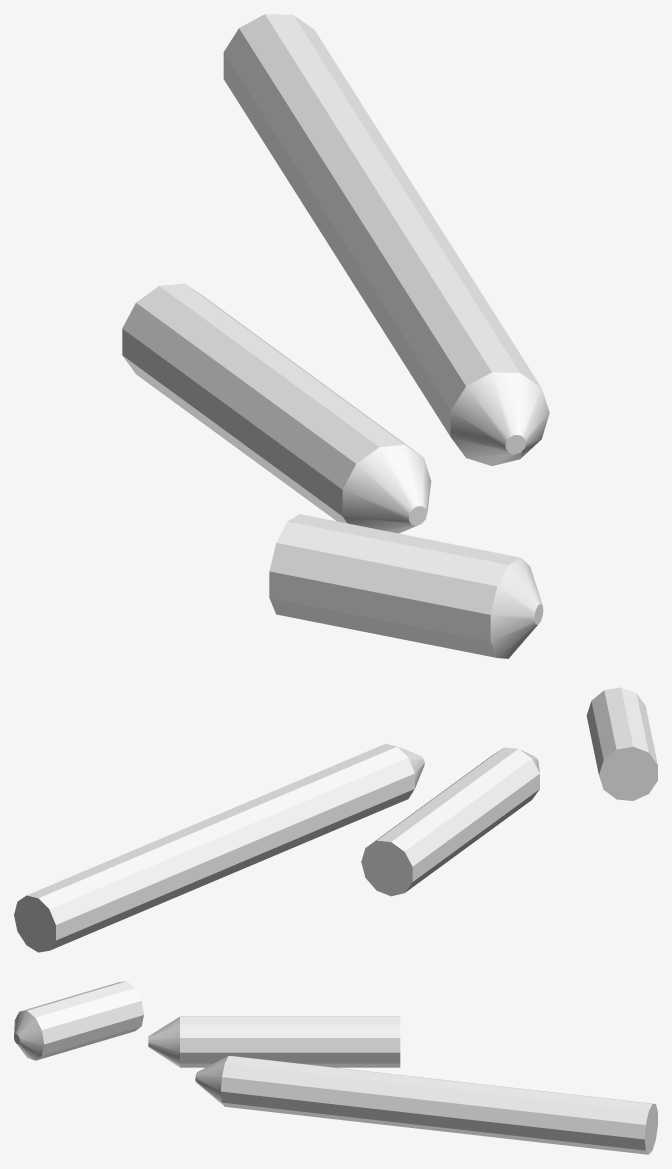
Rendered from Chalks.FBX.
The picture shows the model from 3 angles, top to bottom: view 1: azimuth 30°, elevation 25°; view 2: azimuth 150°, elevation 25°; view 3: azimuth 270°, elevation 25°; orthographic projection. The views are drawn at different scales.
Parts seen in each view (by area): view 1: Chalk 1, Chalk 2, Chalk 3; view 2: Chalk 1, Chalk 2, Chalk 3; view 3: Chalk 1, Chalk 2, Chalk 3.
Part boxes in pixels (<box>): Chalk 1: <box>223,14,549,465</box>; Chalk 2: <box>122,283,431,533</box>; Chalk 3: <box>269,514,543,658</box>; Chalk 1: <box>14,743,424,952</box>; Chalk 2: <box>361,747,539,896</box>; Chalk 3: <box>586,687,657,800</box>; Chalk 1: <box>195,1056,657,1154</box>; Chalk 2: <box>148,1016,400,1067</box>; Chalk 3: <box>14,981,143,1060</box>.
Size of the model in its own units: 8.11 by 1.25 by 15.5.
